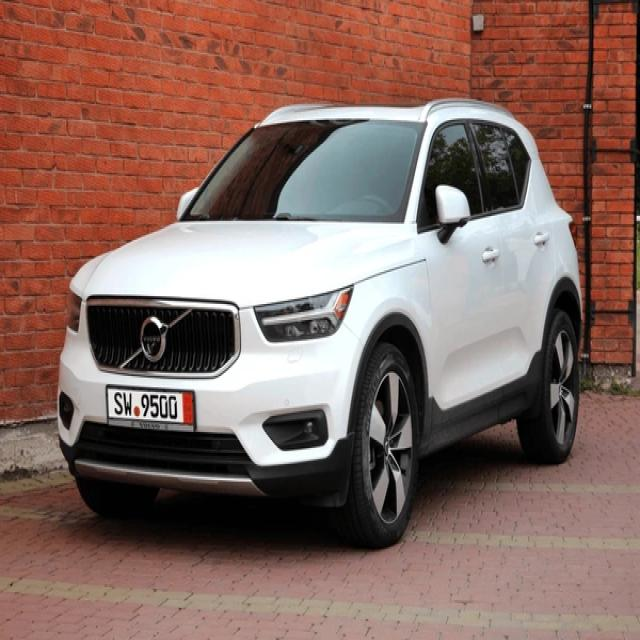volvo: (138, 313, 170, 364)
